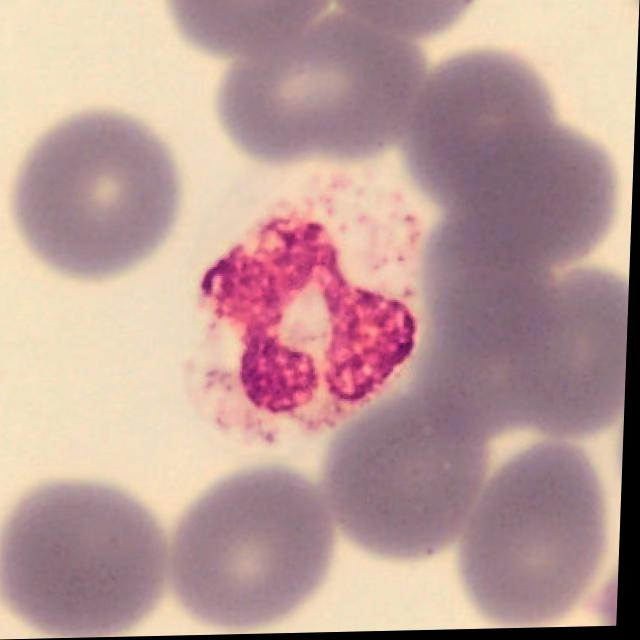Neutrofilo segmentado: (183, 151, 438, 458)
